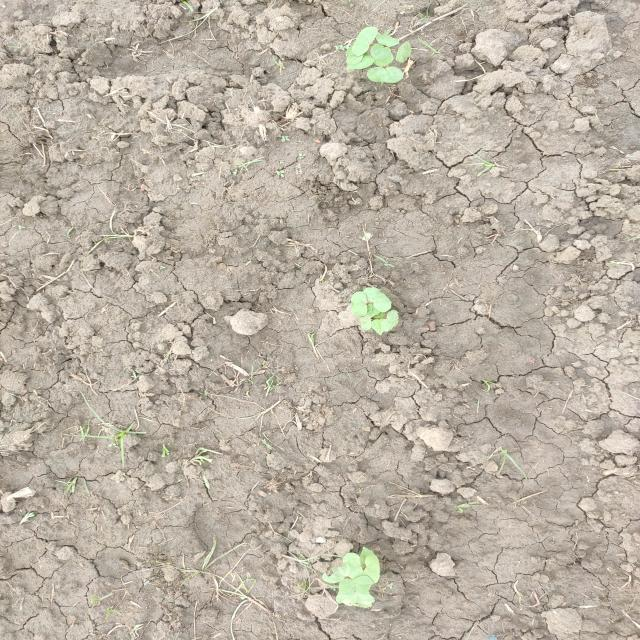seedling: (352, 27, 377, 56), (363, 287, 391, 312), (322, 563, 351, 583), (367, 67, 403, 83), (335, 579, 356, 605), (343, 553, 363, 579), (346, 54, 374, 71), (364, 554, 380, 583), (380, 310, 399, 332), (351, 291, 367, 316), (353, 576, 373, 595), (370, 44, 391, 61), (346, 45, 364, 64), (396, 41, 411, 63), (376, 35, 399, 47), (360, 547, 375, 565), (374, 53, 394, 66), (354, 592, 375, 603), (371, 319, 385, 335), (367, 303, 380, 318), (359, 317, 372, 330)
